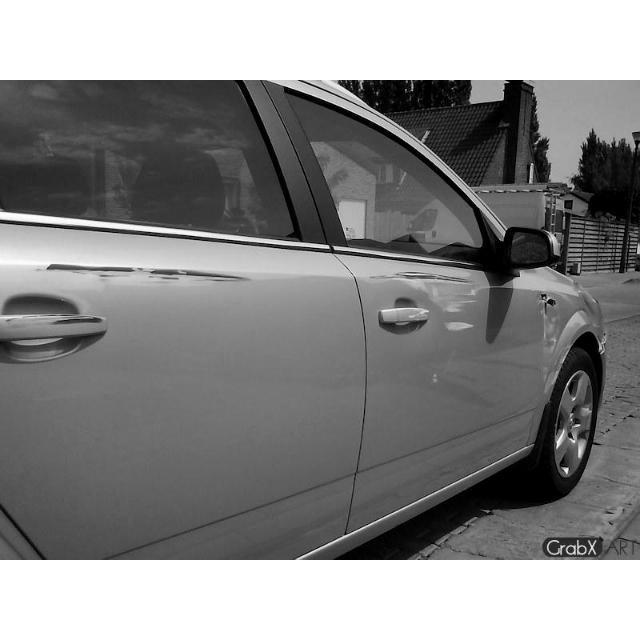doorouter-dent: (386, 263, 502, 495)
